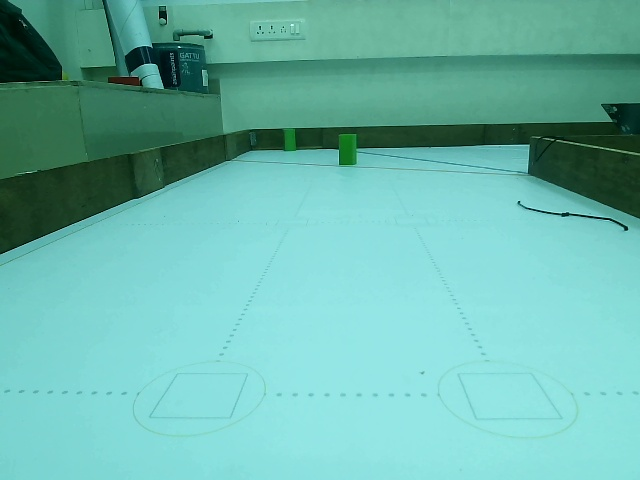green: (338, 134, 355, 164), (282, 128, 295, 152)
